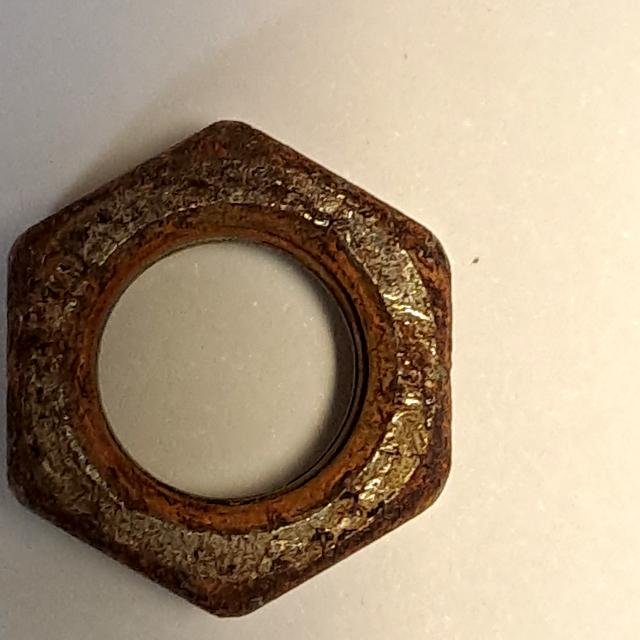Rust: (1, 100, 472, 640)
